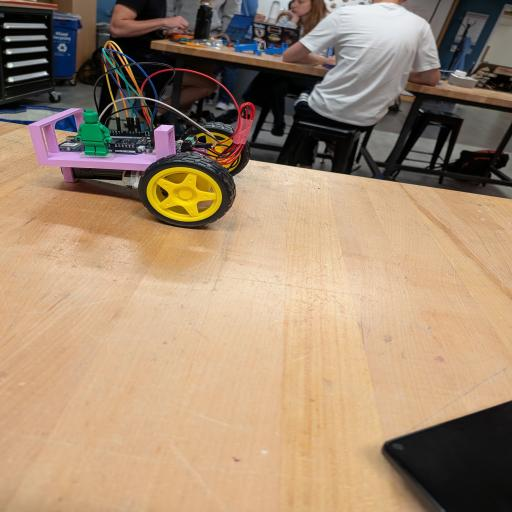Minifig: (76, 110, 112, 156)
